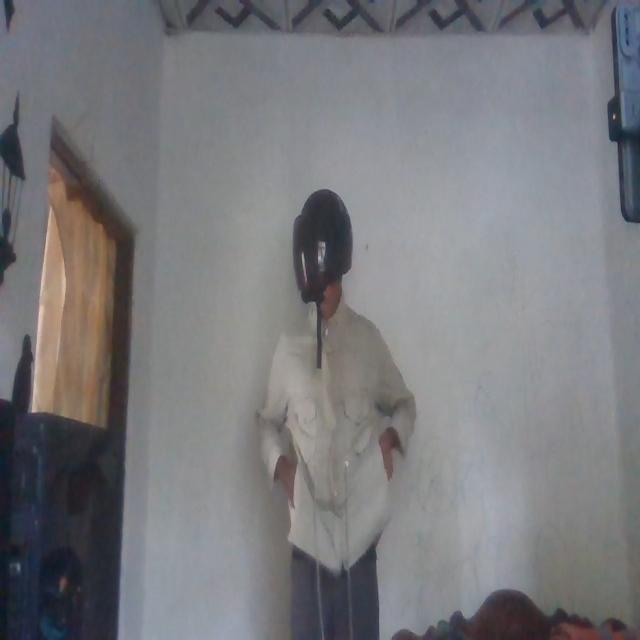Helmet_Wearer: (281, 182, 367, 315)
Jacket_Wearer: (256, 300, 416, 564)
Person: (252, 180, 418, 640)
